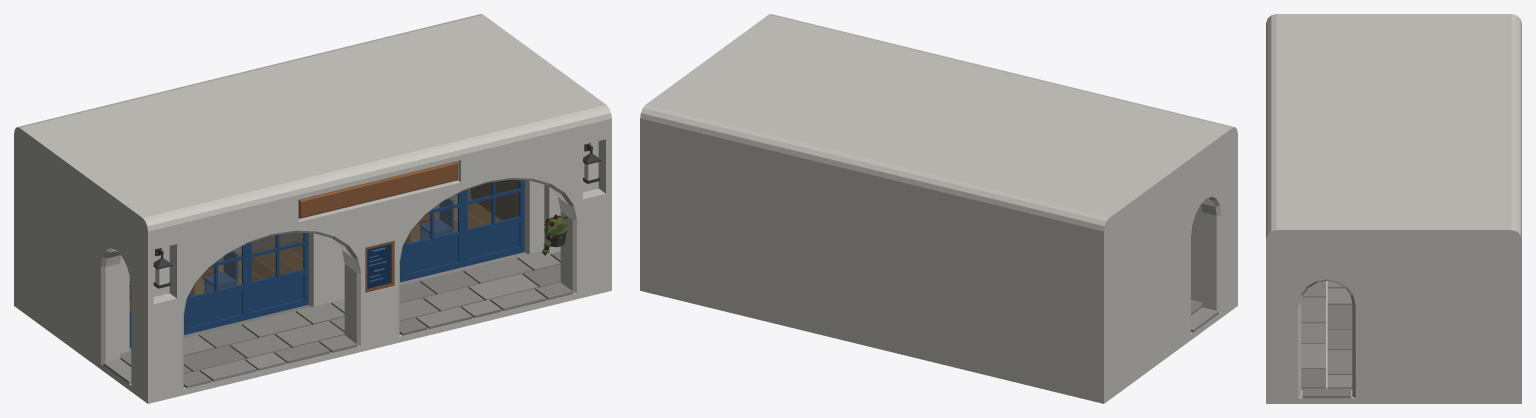
Rendered from kafeneio-25e357.glb.
3 views of the same model, side by side, from view 1: azimuth 30°, elevation 25°; view 2: azimuth 150°, elevation 25°; view 3: azimuth 270°, elevation 25° (orthographic). The views are drawn at different scales.
Parts seen in each view (by area): view 1: kafeneio-body, kafeneio-glass; view 2: kafeneio-body; view 3: kafeneio-body.
Boxes of the visible parts, x1,y1,x2,y2 form: kafeneio-body: (14,14,611,403); kafeneio-glass: (130,180,518,310); kafeneio-body: (640,14,1237,403); kafeneio-body: (1266,14,1521,403).
Size of the model in its own units: 8 by 3 by 4.
